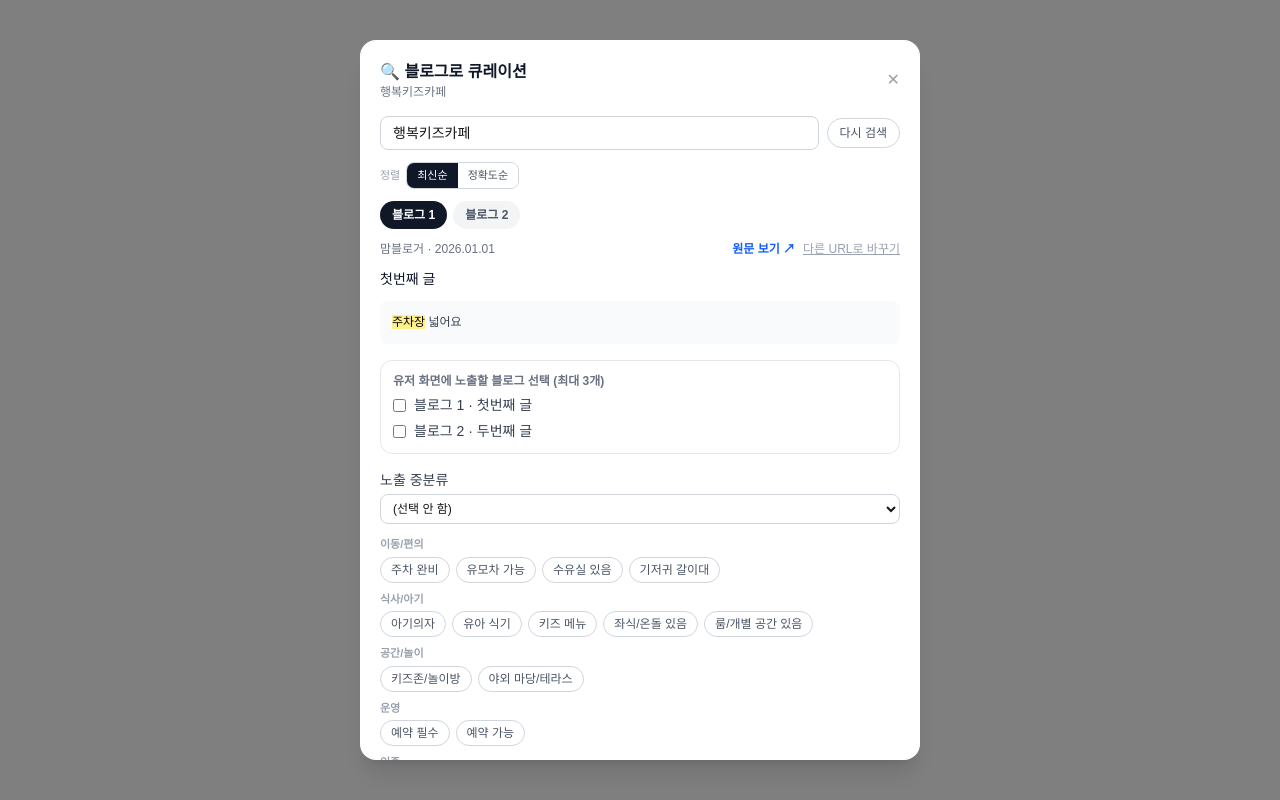
Scenario: BlogCurationModal › 탭을 누르면 해당 블로그의 본문(하이라이팅 포함)이 뷰어에 렌더링된다
This screenshot has width=1280, height=800.
Expected: the text "첫번째 글" is shown, [380,270,435,286]
Expected: the text "주차장" is shown, [392,314,425,328]
Click the tab "블로그 2".
click(487, 214)  # box [453,200,520,228]
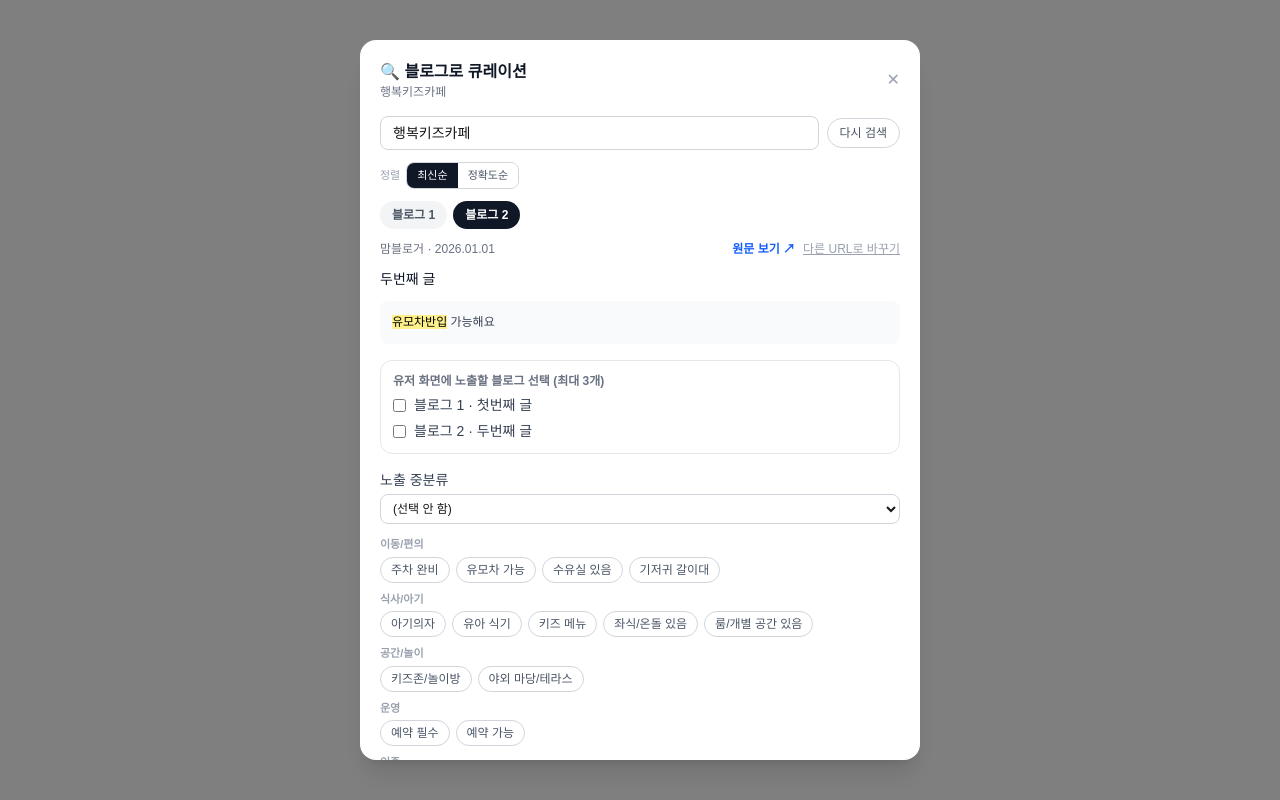
Result: the text "두번째 글" is shown at [380,270,435,286]
Result: the text "유모차반입" is shown at [392,314,447,328]
